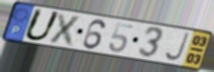3: (137, 25, 164, 59)
5: (107, 21, 134, 53)
6: (82, 18, 106, 50)
J: (163, 32, 191, 62)
U: (23, 8, 63, 43)
X: (46, 12, 85, 48)
